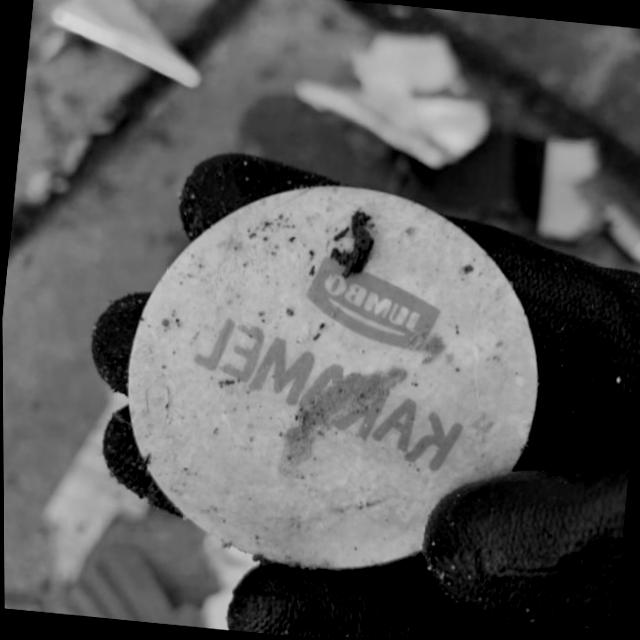Paper: (106, 158, 561, 597)
